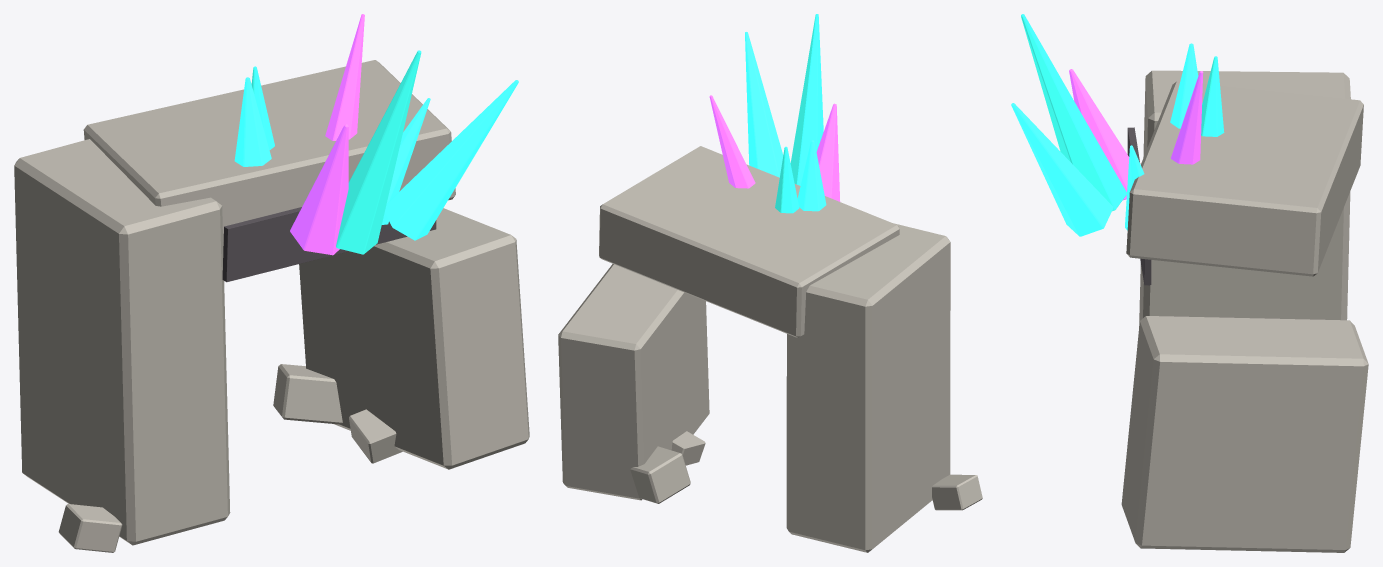
Rendered from runtime.glb.
3 renders of one model, left to right at view 1: azimuth 30°, elevation 25°; view 2: azimuth 150°, elevation 25°; view 3: azimuth 270°, elevation 25°, orthographic. The views are drawn at different scales.
Parts seen in each view (by area): view 1: crystal-ruins-crystal-growth-v01_stone_00_nocol, crystal-ruins-crystal-growth-v01_stone_01_nocol, crystal-ruins-crystal-growth-v01_stone_02_nocol, crystal-ruins-crystal-growth-v01_crystal_05_nocol, crystal-ruins-crystal-growth-v01_crystal_06_nocol, crystal-ruins-crystal-growth-v01_fracture_01_nocol, crystal-ruins-crystal-growth-v01_crystal_04_nocol, crystal-ruins-crystal-growth-v01_stone_10_nocol, crystal-ruins-crystal-growth-v01_stone_12_nocol, crystal-ruins-crystal-growth-v01_crystal_01_nocol, crystal-ruins-crystal-growth-v01_crystal_03_nocol, crystal-ruins-crystal-growth-v01_stone_11_nocol (+2 smaller); view 2: crystal-ruins-crystal-growth-v01_stone_00_nocol, crystal-ruins-crystal-growth-v01_stone_02_nocol, crystal-ruins-crystal-growth-v01_stone_01_nocol, crystal-ruins-crystal-growth-v01_crystal_06_nocol, crystal-ruins-crystal-growth-v01_crystal_05_nocol, crystal-ruins-crystal-growth-v01_stone_10_nocol, crystal-ruins-crystal-growth-v01_stone_12_nocol, crystal-ruins-crystal-growth-v01_crystal_04_nocol, crystal-ruins-crystal-growth-v01_crystal_01_nocol, crystal-ruins-crystal-growth-v01_crystal_03_nocol, crystal-ruins-crystal-growth-v01_crystal_02_nocol, crystal-ruins-crystal-growth-v01_stone_11_nocol; view 3: crystal-ruins-crystal-growth-v01_stone_01_nocol, crystal-ruins-crystal-growth-v01_stone_02_nocol, crystal-ruins-crystal-growth-v01_stone_00_nocol, crystal-ruins-crystal-growth-v01_crystal_05_nocol, crystal-ruins-crystal-growth-v01_crystal_06_nocol, crystal-ruins-crystal-growth-v01_crystal_04_nocol, crystal-ruins-crystal-growth-v01_crystal_01_nocol, crystal-ruins-crystal-growth-v01_crystal_02_nocol, crystal-ruins-crystal-growth-v01_crystal_03_nocol, crystal-ruins-crystal-growth-v01_crystal_00_nocol, crystal-ruins-crystal-growth-v01_fracture_01_nocol.
Boxes of the visible parts, x1,y1,x2,y2 form: crystal-ruins-crystal-growth-v01_stone_00_nocol: (14,139,230,545); crystal-ruins-crystal-growth-v01_stone_01_nocol: (299,208,529,469); crystal-ruins-crystal-growth-v01_stone_02_nocol: (83,60,455,245); crystal-ruins-crystal-growth-v01_crystal_05_nocol: (336,50,421,254); crystal-ruins-crystal-growth-v01_crystal_06_nocol: (384,80,518,240); crystal-ruins-crystal-growth-v01_fracture_01_nocol: (222,207,436,282); crystal-ruins-crystal-growth-v01_crystal_04_nocol: (290,124,348,255); crystal-ruins-crystal-growth-v01_stone_10_nocol: (273,364,342,424); crystal-ruins-crystal-growth-v01_stone_12_nocol: (58,504,122,552); crystal-ruins-crystal-growth-v01_crystal_01_nocol: (325,14,364,140); crystal-ruins-crystal-growth-v01_crystal_03_nocol: (234,77,271,166); crystal-ruins-crystal-growth-v01_stone_11_nocol: (349,409,402,463); crystal-ruins-crystal-growth-v01_stone_00_nocol: (786,223,950,552); crystal-ruins-crystal-growth-v01_stone_02_nocol: (599,146,899,337); crystal-ruins-crystal-growth-v01_stone_01_nocol: (558,264,709,500); crystal-ruins-crystal-growth-v01_crystal_06_nocol: (745,32,783,177); crystal-ruins-crystal-growth-v01_crystal_05_nocol: (790,14,823,185); crystal-ruins-crystal-growth-v01_stone_10_nocol: (630,446,690,503); crystal-ruins-crystal-growth-v01_stone_12_nocol: (932,474,982,510); crystal-ruins-crystal-growth-v01_crystal_04_nocol: (816,103,840,201); crystal-ruins-crystal-growth-v01_crystal_01_nocol: (709,95,755,188); crystal-ruins-crystal-growth-v01_crystal_03_nocol: (797,140,826,211); crystal-ruins-crystal-growth-v01_crystal_02_nocol: (775,146,799,213); crystal-ruins-crystal-growth-v01_stone_11_nocol: (671,431,705,465); crystal-ruins-crystal-growth-v01_stone_01_nocol: (1121,316,1368,552); crystal-ruins-crystal-growth-v01_stone_02_nocol: (1126,81,1363,276); crystal-ruins-crystal-growth-v01_stone_00_nocol: (1139,70,1350,327); crystal-ruins-crystal-growth-v01_crystal_05_nocol: (1021,14,1126,211); crystal-ruins-crystal-growth-v01_crystal_06_nocol: (1011,103,1113,236); crystal-ruins-crystal-growth-v01_crystal_04_nocol: (1069,69,1129,200); crystal-ruins-crystal-growth-v01_crystal_01_nocol: (1170,71,1203,164); crystal-ruins-crystal-growth-v01_crystal_02_nocol: (1201,56,1224,136); crystal-ruins-crystal-growth-v01_crystal_03_nocol: (1170,43,1202,128); crystal-ruins-crystal-growth-v01_crystal_00_nocol: (1125,145,1144,230); crystal-ruins-crystal-growth-v01_fracture_01_nocol: (1127,127,1151,285).
Size of the model in its own units: 4.89 by 5.19 by 3.55.
